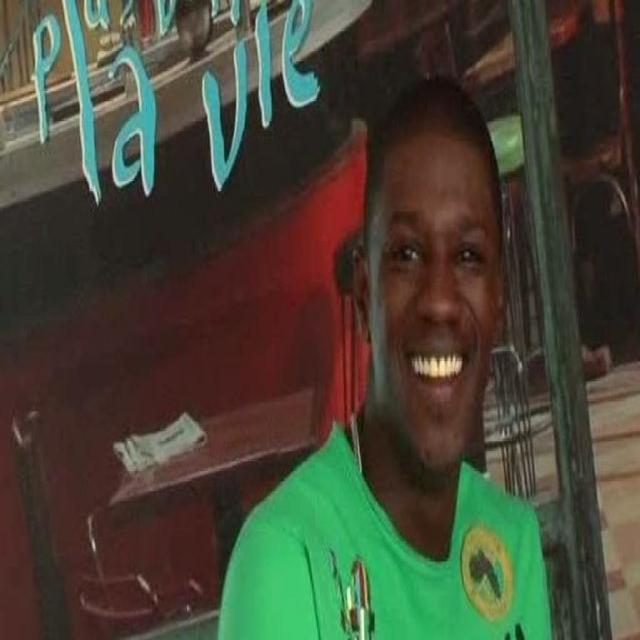nomask: (371, 138, 499, 480)
